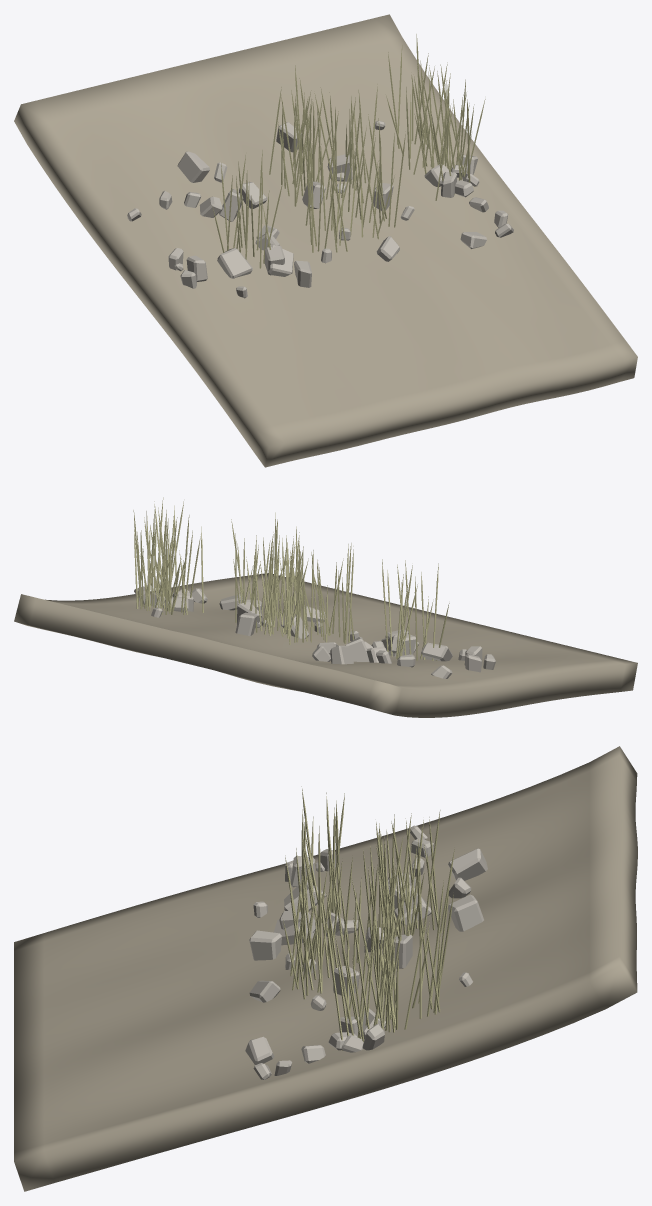
Rendered from H07_浅滩岸坡.fbx.
The picture shows the model from 3 angles, top to bottom: view 1: azimuth 30°, elevation 25°; view 2: azimuth 150°, elevation 25°; view 3: azimuth 270°, elevation 25°; orthographic projection. The views are drawn at different scales.
Parts seen in each view (by area): view 1: H07_岸坡, H07_芦苇, H07_卵石; view 2: H07_岸坡, H07_芦苇, H07_卵石; view 3: H07_岸坡, H07_芦苇, H07_卵石.
Boxes of the visible parts, bbox=[...] form: H07_岸坡: bbox=[14, 14, 637, 467]; H07_芦苇: bbox=[212, 34, 485, 268]; H07_卵石: bbox=[127, 120, 513, 298]; H07_岸坡: bbox=[14, 573, 637, 717]; H07_芦苇: bbox=[133, 497, 449, 660]; H07_卵石: bbox=[134, 586, 495, 678]; H07_岸坡: bbox=[14, 746, 637, 1191]; H07_芦苇: bbox=[282, 786, 454, 1050]; H07_卵石: bbox=[245, 825, 487, 1079].
Size of the model in its own units: 608 by 362 by 721.
